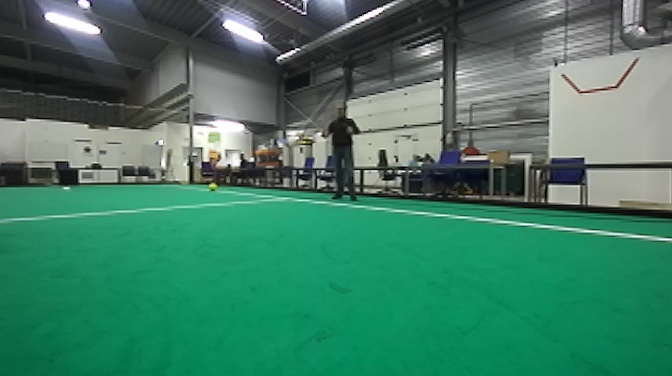ball: (207, 181, 217, 192)
human: (319, 102, 366, 204)
